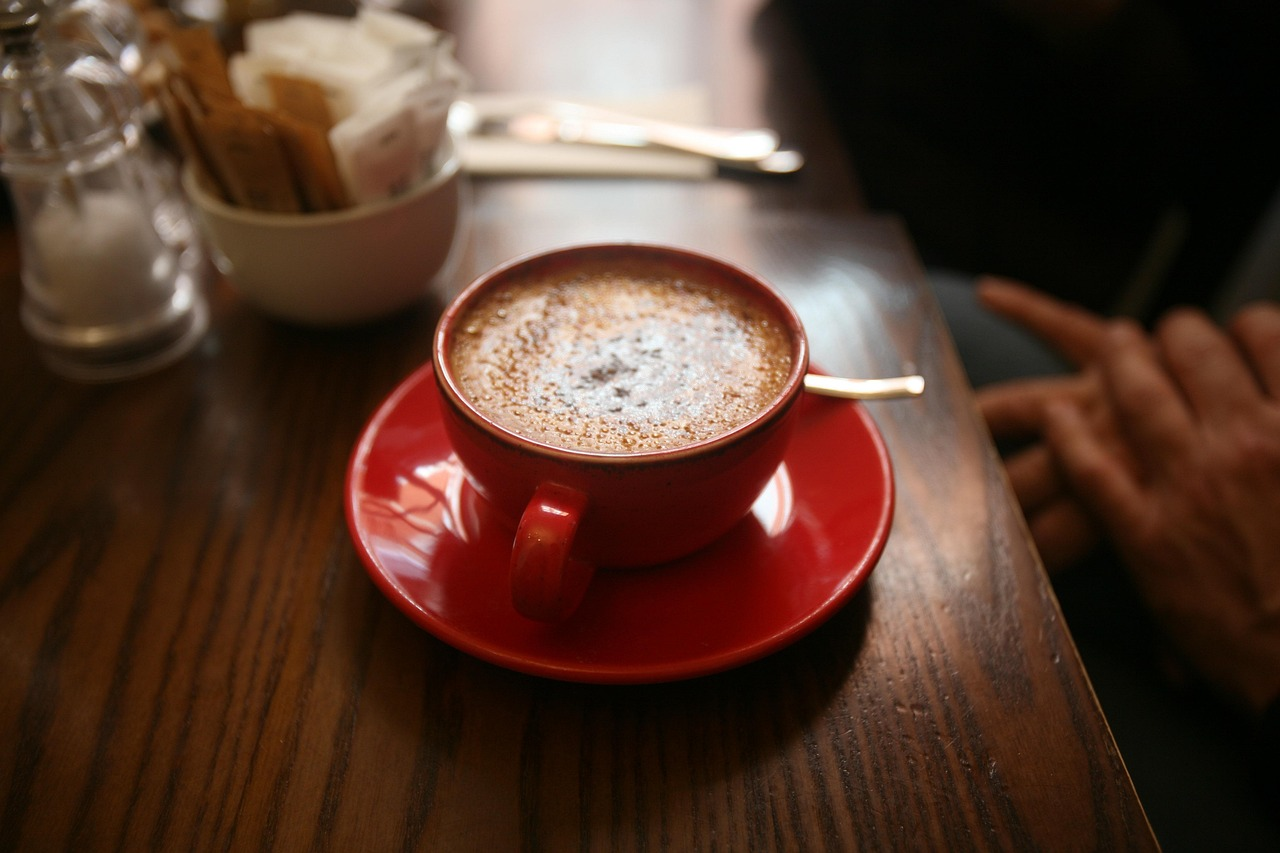mug: (415, 246, 872, 611)
